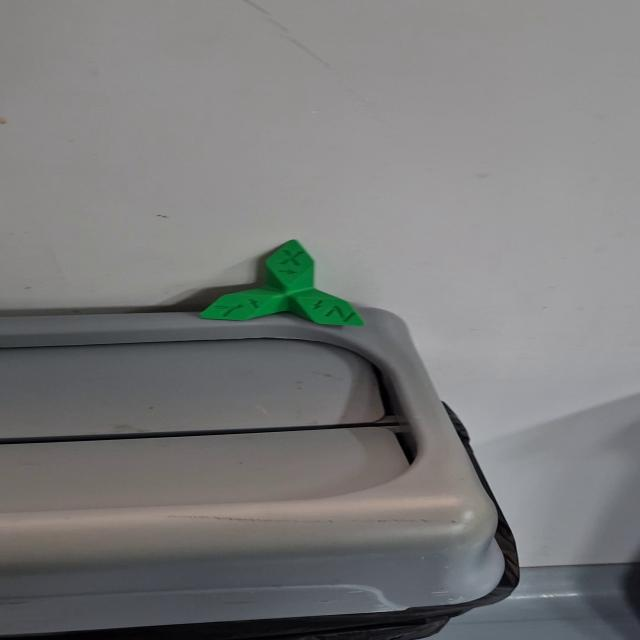objects: (195, 238, 367, 328)
